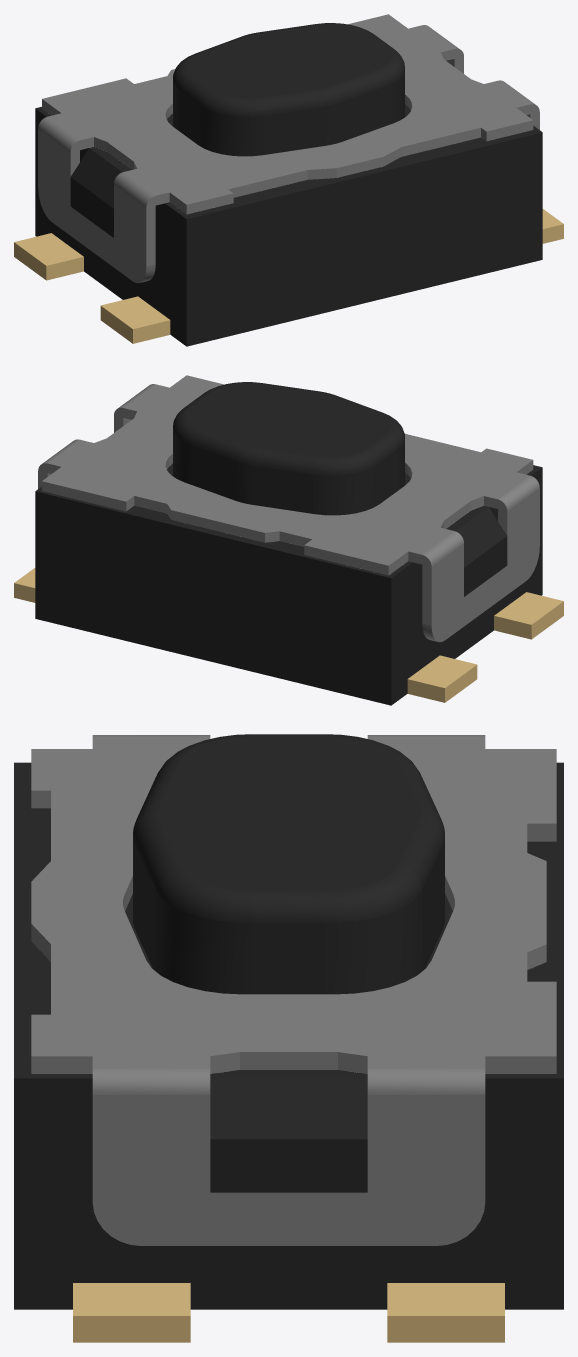
The model's file is kc-sw_push_1p1t_no_ck_kmr2.glb.
3 views of the same model, one above another, from view 1: azimuth 30°, elevation 25°; view 2: azimuth 150°, elevation 25°; view 3: azimuth 270°, elevation 25° (orthographic). The views are drawn at different scales.
Visible parts, largest first — view 1: 0_0_0_0, 0.25_0.25_0.25_0, 0.75_0.5_0.25_0.9; view 2: 0_0_0_0, 0.25_0.25_0.25_0, 0.75_0.5_0.25_0.9; view 3: 0_0_0_0, 0.25_0.25_0.25_0, 0.75_0.5_0.25_0.9.
Boxes of the visible parts, left/top/right/bottom form: 0_0_0_0: left=35, top=23, right=542, bottom=346; 0.25_0.25_0.25_0: left=38, top=14, right=539, bottom=283; 0.75_0.5_0.25_0.9: left=14, top=209, right=563, bottom=343; 0_0_0_0: left=35, top=382, right=542, bottom=705; 0.25_0.25_0.25_0: left=38, top=375, right=539, bottom=642; 0.75_0.5_0.25_0.9: left=14, top=568, right=563, bottom=702; 0_0_0_0: left=14, top=734, right=563, bottom=1309; 0.25_0.25_0.25_0: left=31, top=735, right=556, bottom=1245; 0.75_0.5_0.25_0.9: left=73, top=1283, right=504, bottom=1342.
Bounding box in the file's own units: 0.46 × 0.19 × 0.28.
